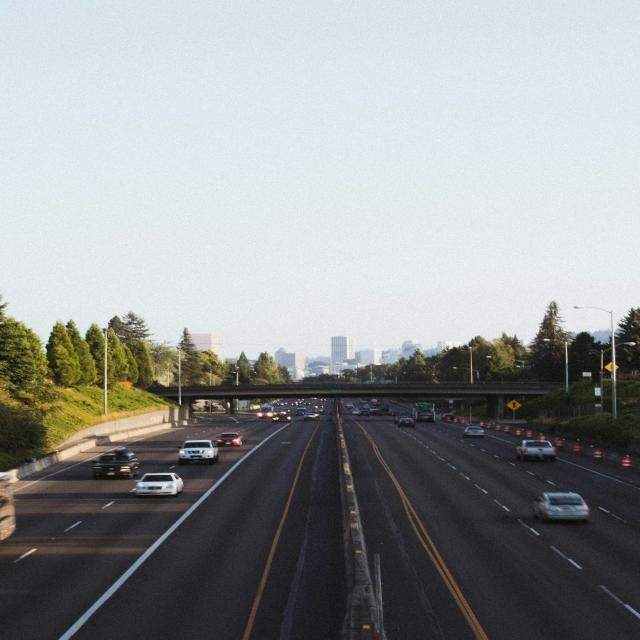Car: (532, 492, 590, 524), (92, 448, 139, 479), (132, 472, 184, 497), (515, 439, 557, 462), (178, 440, 218, 464), (215, 432, 243, 447), (463, 426, 485, 438), (396, 417, 416, 428)
